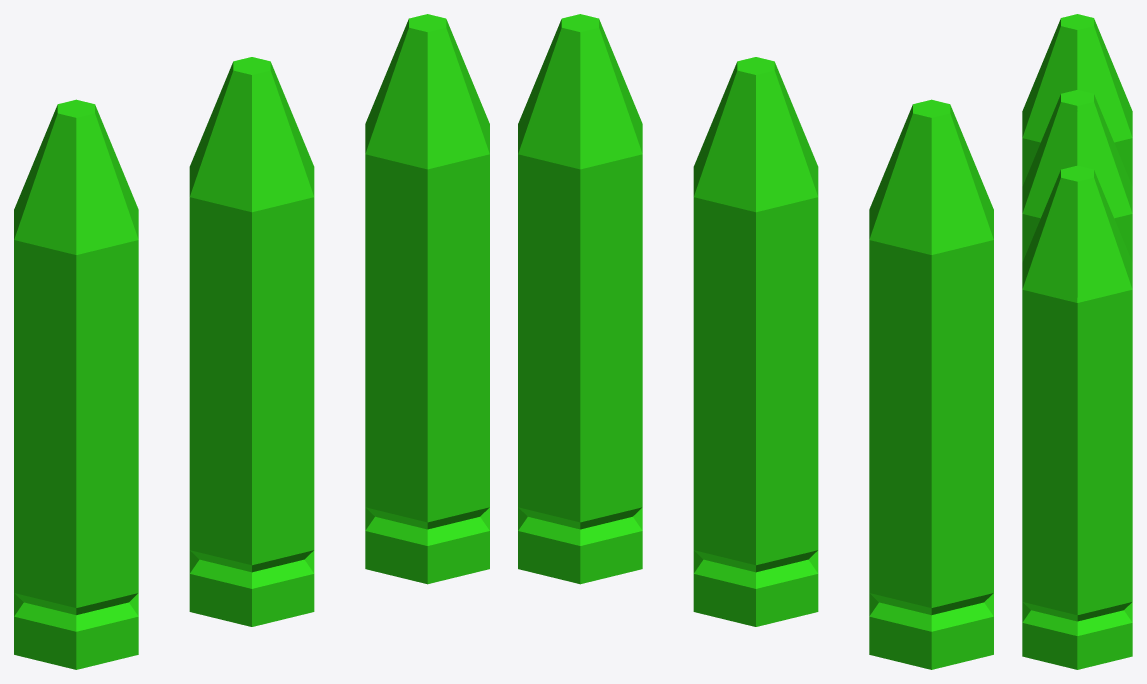
The model's file is Bullet_Up.fbx.
3 renders of one model, left to right at view 1: azimuth 30°, elevation 25°; view 2: azimuth 150°, elevation 25°; view 3: azimuth 270°, elevation 25°, orthographic. The views are drawn at different scales.
Visible parts, largest first — view 1: Bullet_Up; view 2: Bullet_Up; view 3: Bullet_Up.
Boxes of the visible parts, x1,y1,x2,y2 form: Bullet_Up: [14, 14, 489, 669]; Bullet_Up: [518, 14, 993, 669]; Bullet_Up: [1022, 14, 1132, 669].
Bounding box in the file's own units: 375 × 400 × 85.06.
